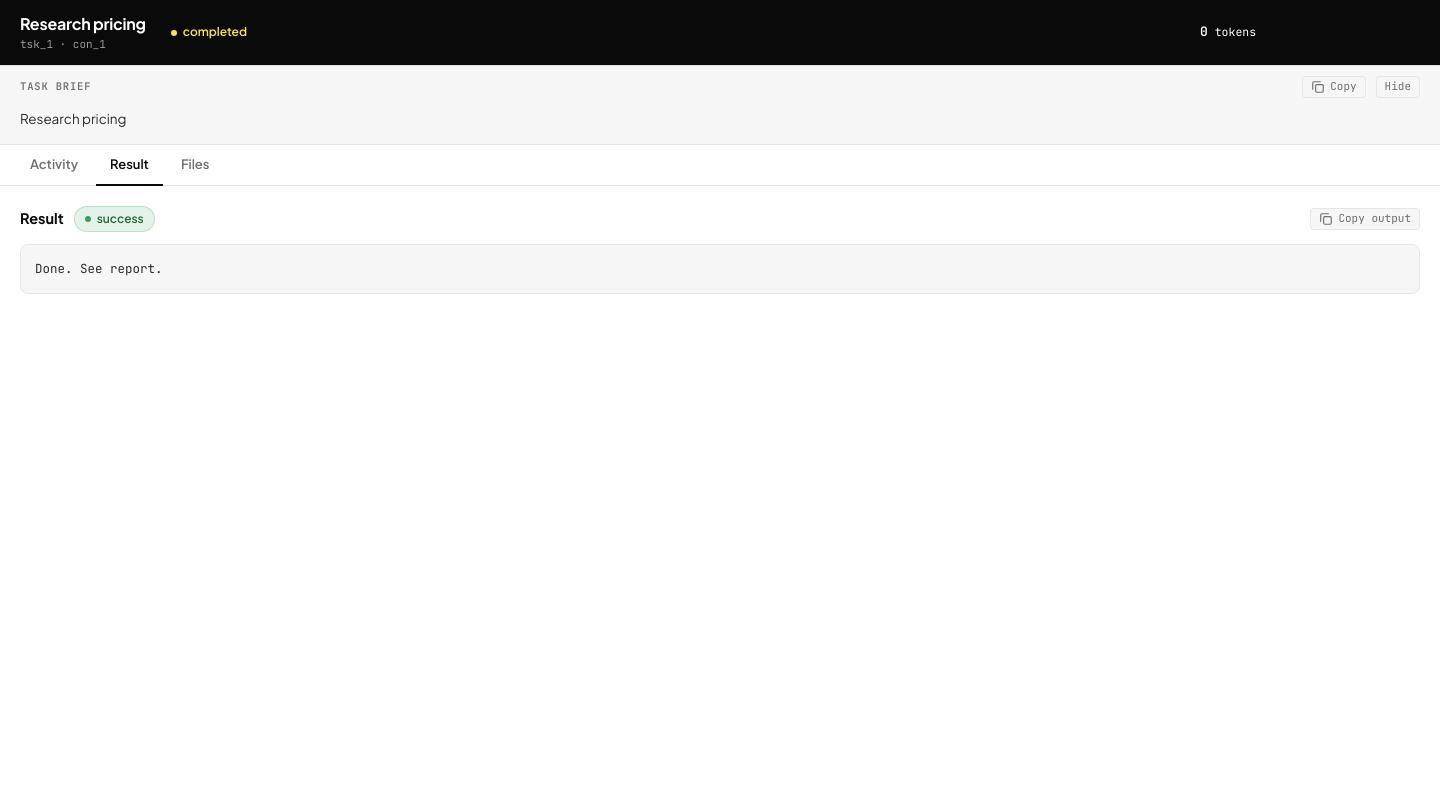
Test case: TaskViewer (live SSE) › replays recorded events in the Activity tab for a finished task
Step 1. Click the button "Activity" → (54, 165), box [16,145,92,186]
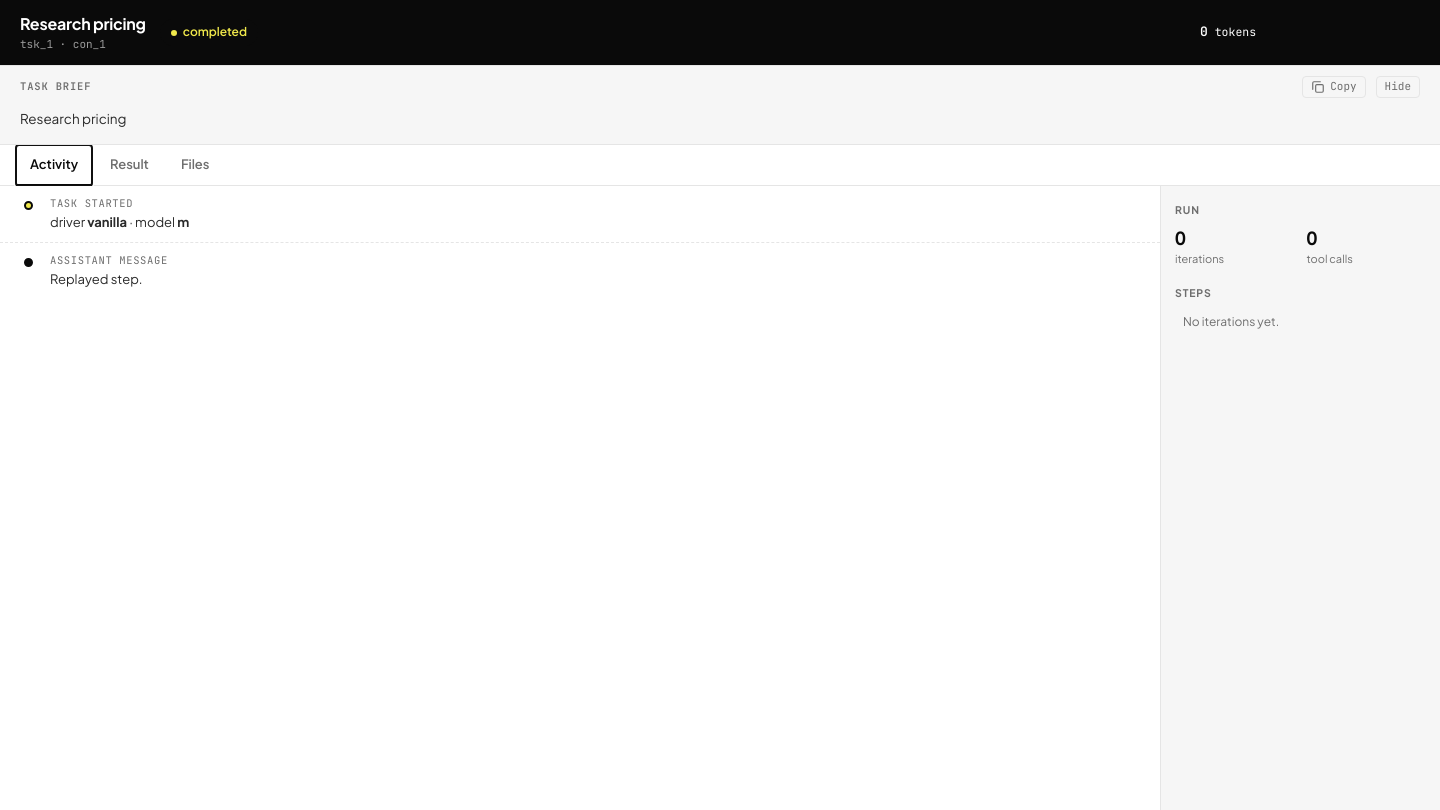
Expected: the text "Replayed step." is shown, [50,271,142,287]
Expected: the number of elements with test id "event-row" is 2, [0,186,1160,243]; [24,253,168,287]
